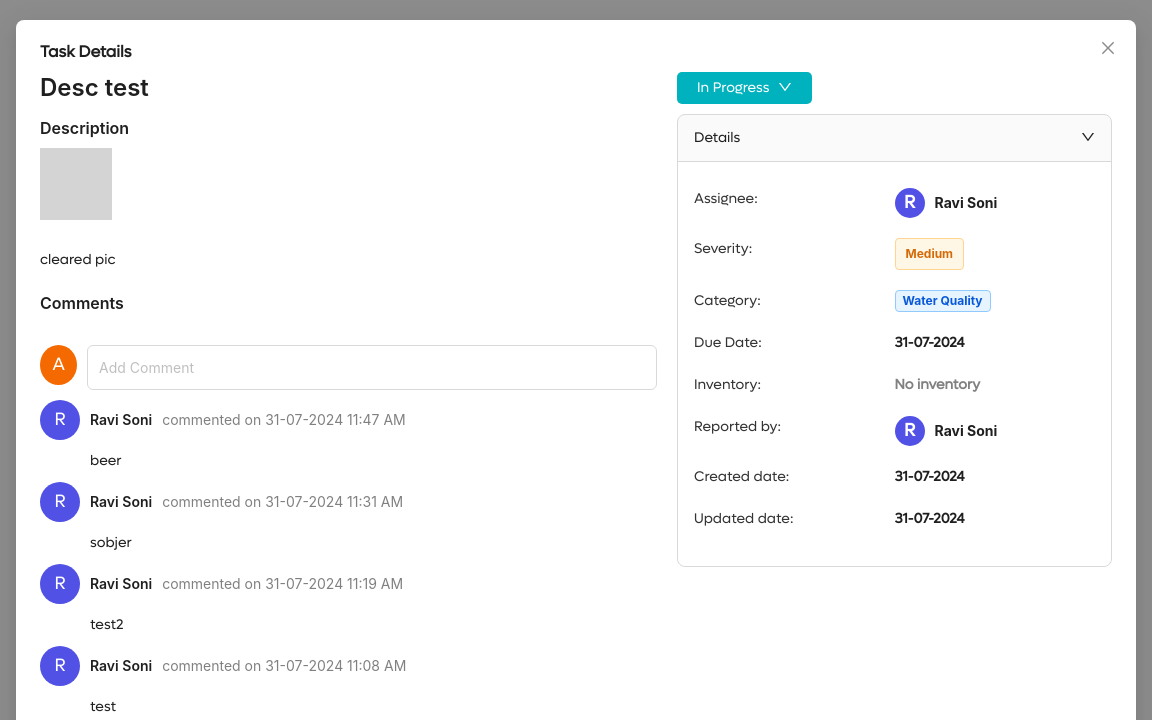
Scenario: Task Details › should cancel the comment input
The width and height of the screenshot is (1152, 720).
Click the field with test id "comment-input".
click(372, 368)  # box top-left (87, 345), bottom-right (657, 390)
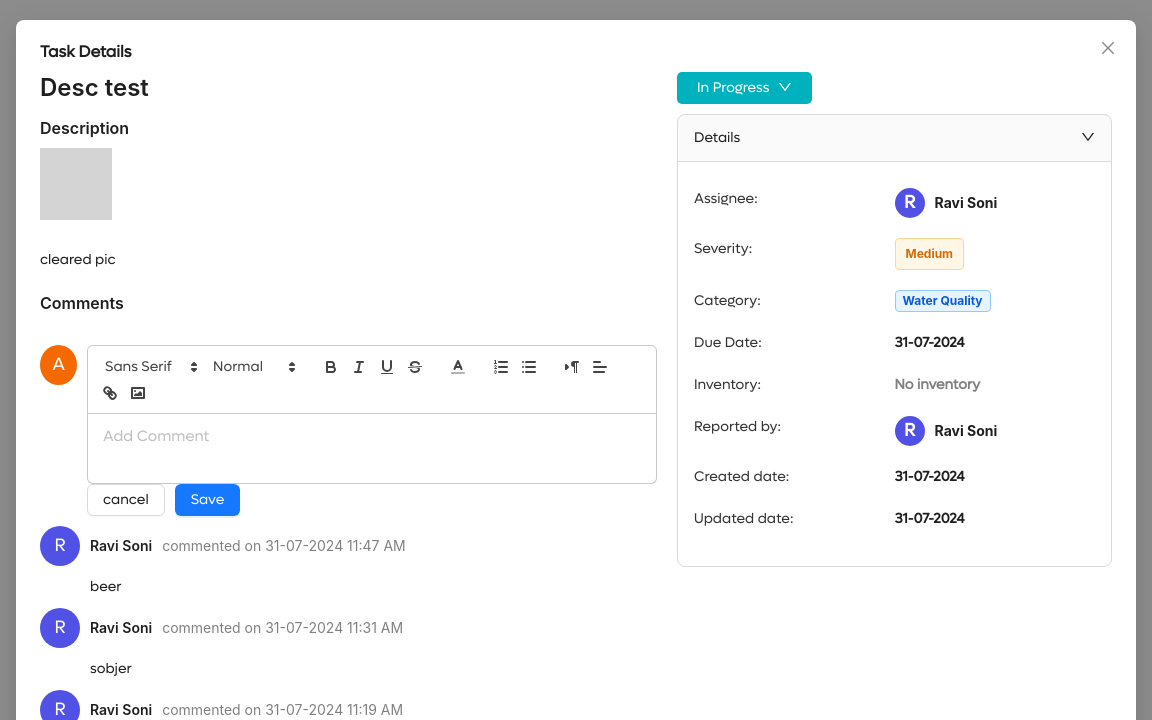
Result: the element with test id "comment-texteditor" is shown at top-left (87, 345), bottom-right (657, 484)
Click the button with test id "comment-cancel".
click(126, 500)  # box top-left (87, 484), bottom-right (165, 516)
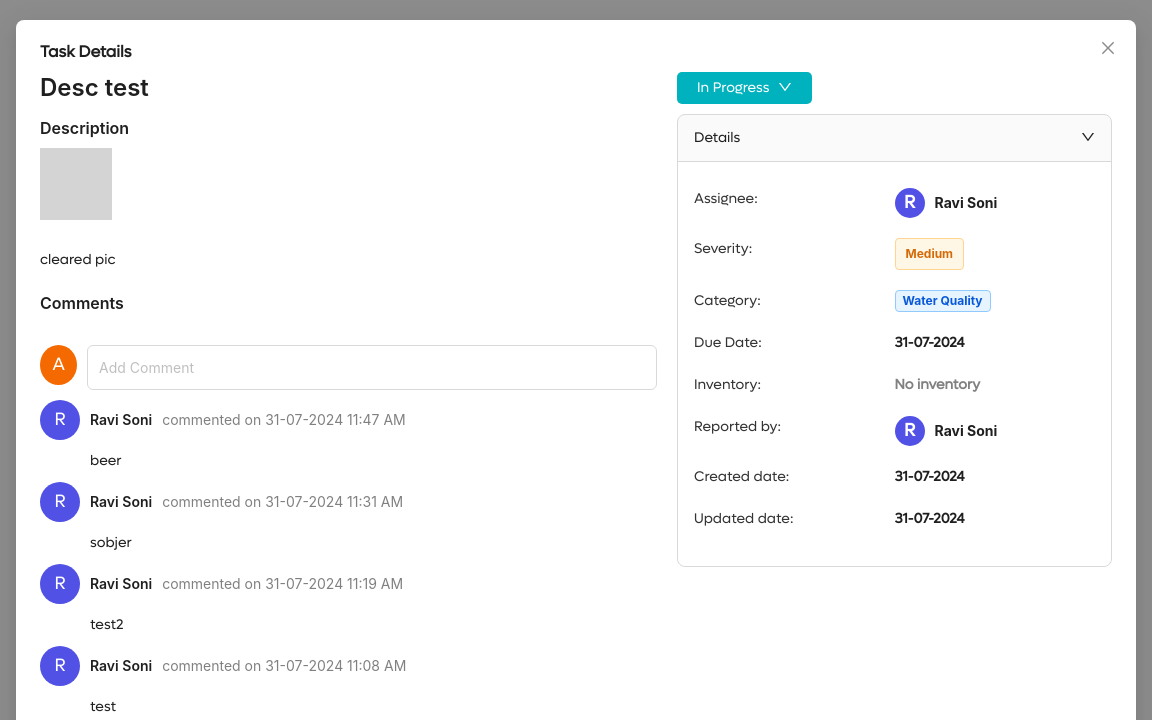
Result: the element with test id "comment-texteditor" is gone
